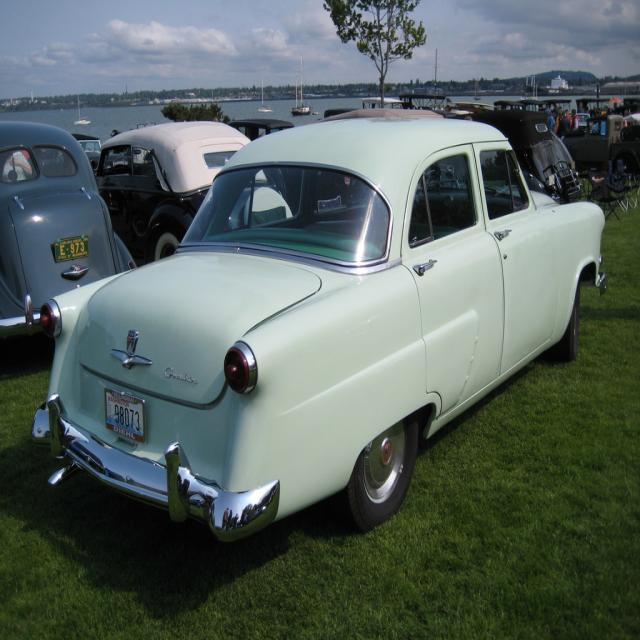car: (18, 120, 607, 549)
